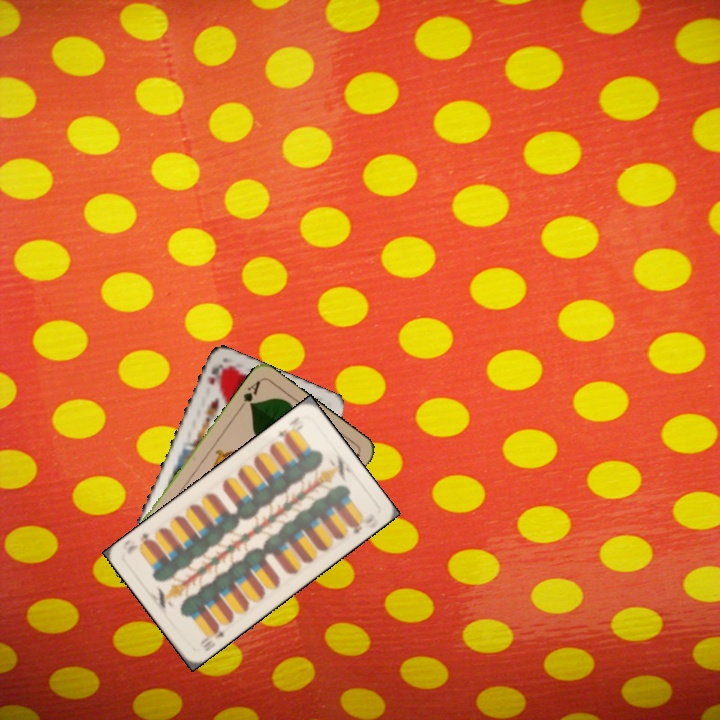E10: (199, 621, 228, 654), (273, 421, 297, 445)
GA: (235, 376, 263, 412)
HK: (204, 363, 226, 387)
